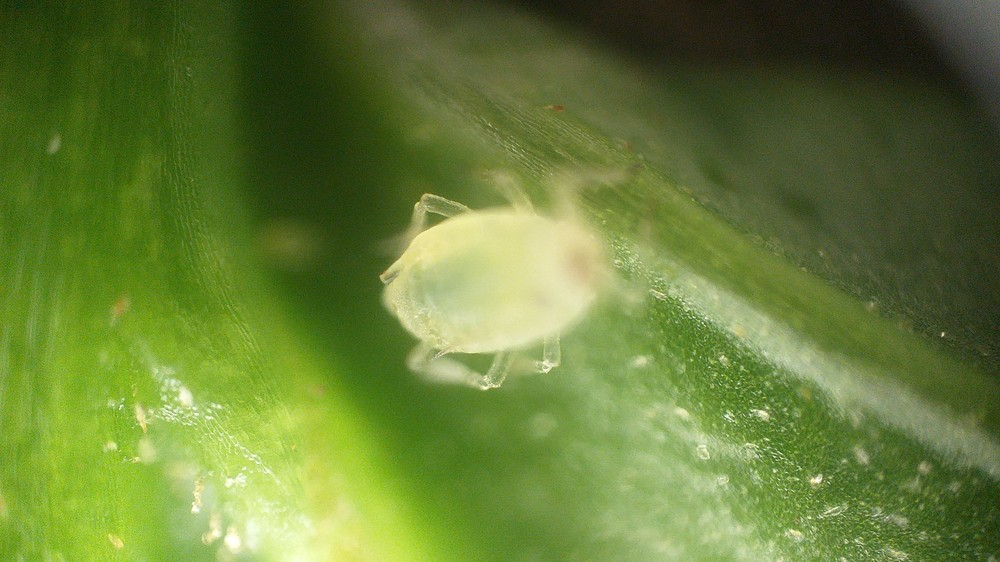Pulgon: (358, 142, 687, 392)
